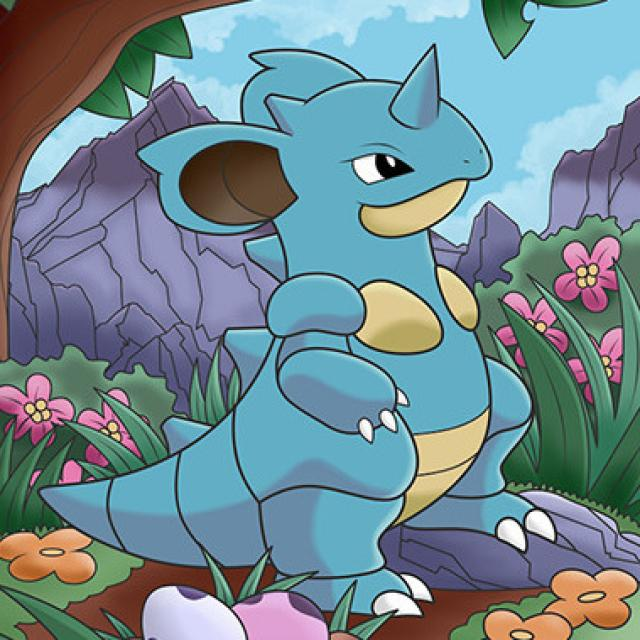Nidoqueen: (127, 49, 530, 624)
